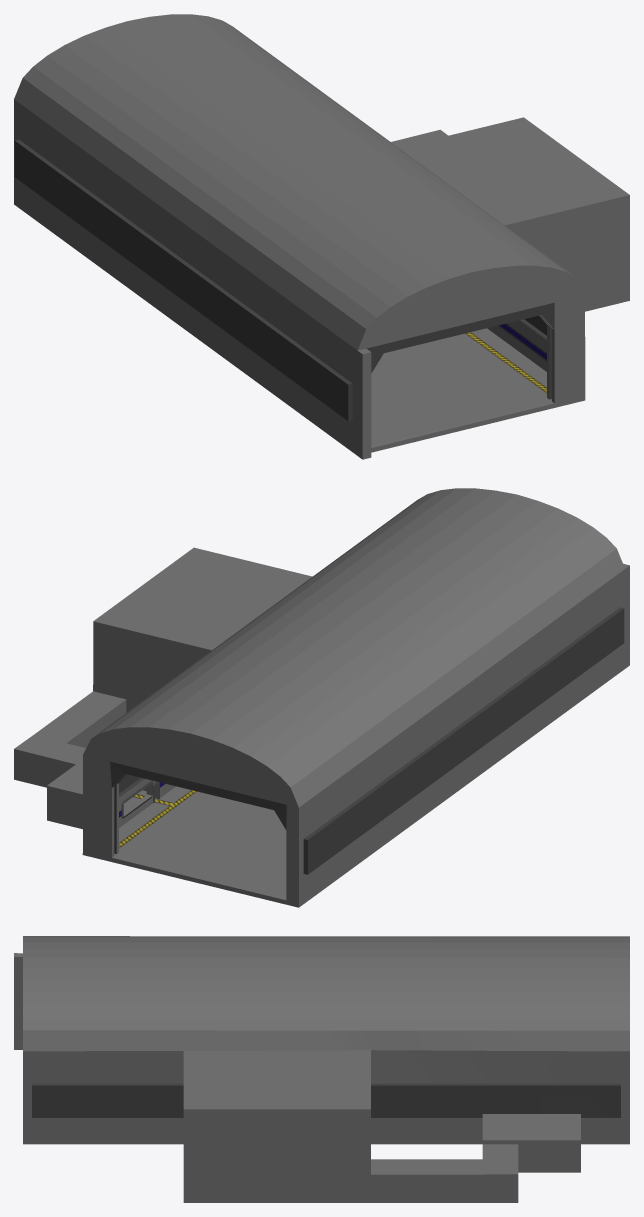
Rendered from Hangar_Richtig V.0.7.3 (textur richtig_fetig) .fbx.
The picture shows the model from 3 angles, top to bottom: view 1: azimuth 30°, elevation 25°; view 2: azimuth 150°, elevation 25°; view 3: azimuth 270°, elevation 25°; orthographic projection. The views are drawn at different scales.
Visible parts, largest first — view 1: Hangar_Nebenraum_Lager_001; view 2: Hangar_Nebenraum_Lager_001; view 3: Hangar_Nebenraum_Lager_001.
Boxes of the visible parts, x1,y1,x2,y2 form: Hangar_Nebenraum_Lager_001: (14,14,629,459); Hangar_Nebenraum_Lager_001: (14,488,629,907); Hangar_Nebenraum_Lager_001: (14,936,629,1202).
Size of the model in its own units: 4200 by 1703 by 6900.
Materials: 1 (1 with a texture image).
